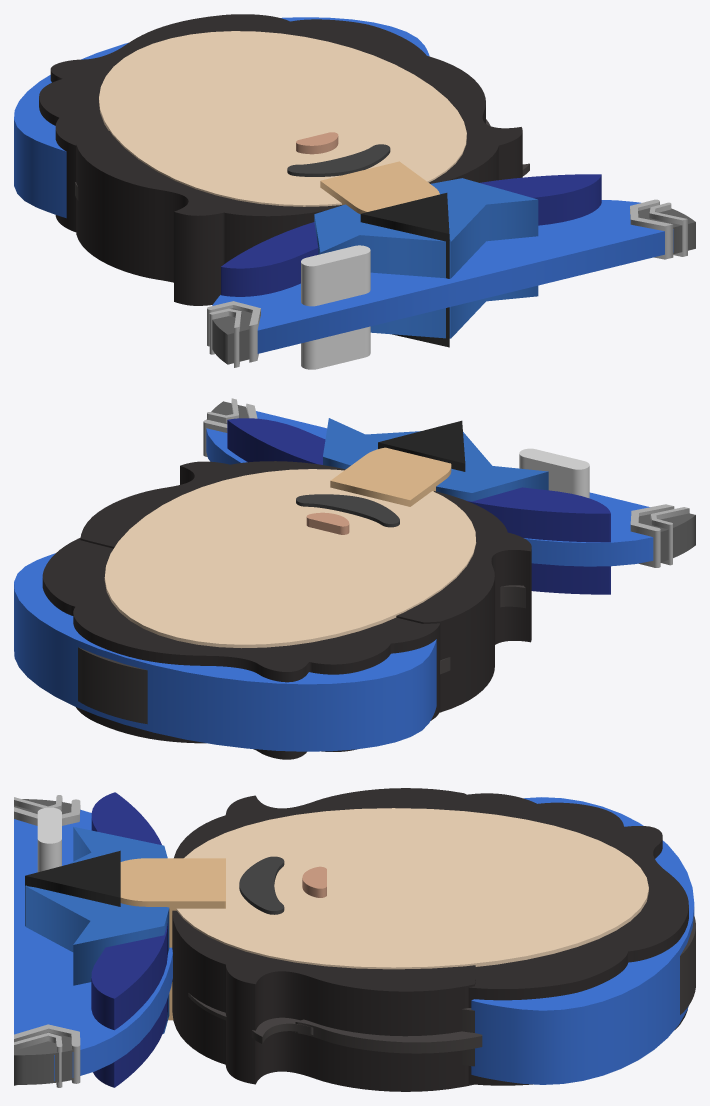
The model's file is emoji_u1f46e_1f3fb.glb.
The picture shows the model from 3 angles, top to bottom: view 1: azimuth 30°, elevation 25°; view 2: azimuth 150°, elevation 25°; view 3: azimuth 270°, elevation 25°; orthographic projection. The views are drawn at different scales.
Parts seen in each view (by area): view 1: emoji_u1f46e_1f3fb; view 2: emoji_u1f46e_1f3fb; view 3: emoji_u1f46e_1f3fb.
Part boxes in pixels (<box>): emoji_u1f46e_1f3fb: <box>14,14,695,369</box>; emoji_u1f46e_1f3fb: <box>14,398,695,759</box>; emoji_u1f46e_1f3fb: <box>14,788,695,1091</box>.
Bounding box in the file's own units: 0.0294 × 0.0068 × 0.0333.
